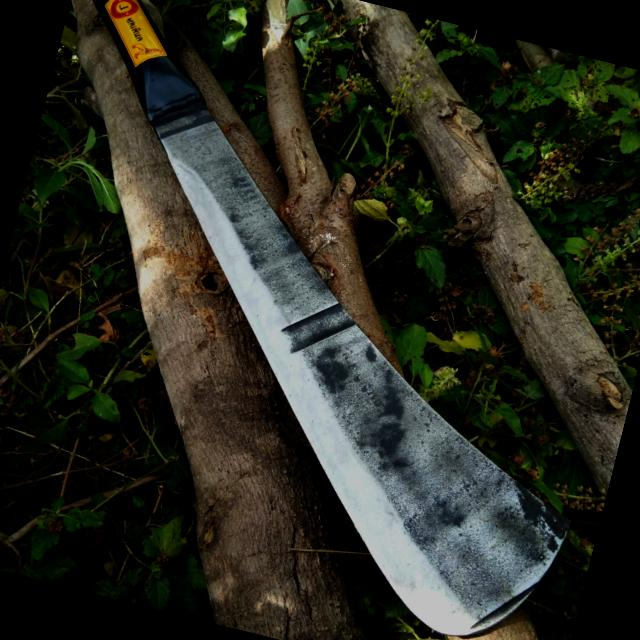eto: (87, 0, 572, 640)
